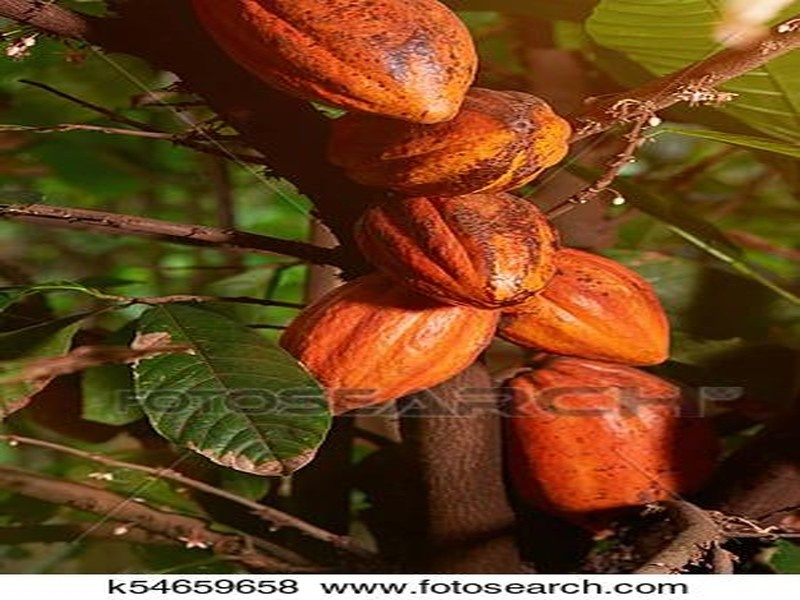Cacaopod: (497, 354, 718, 530), (269, 262, 521, 402), (319, 84, 590, 199), (192, 1, 477, 109), (493, 235, 684, 385), (347, 193, 568, 304)
